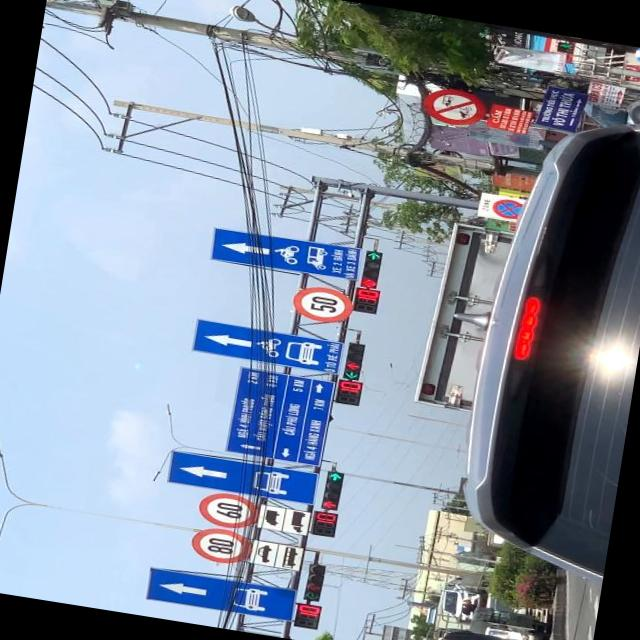P-127: (289, 284, 357, 326)
